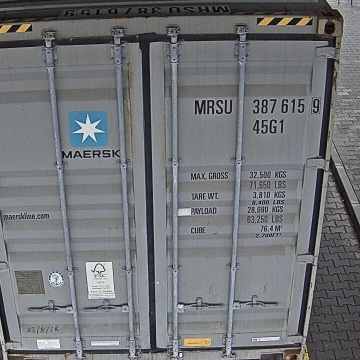serial_id: (194, 98, 320, 114)
